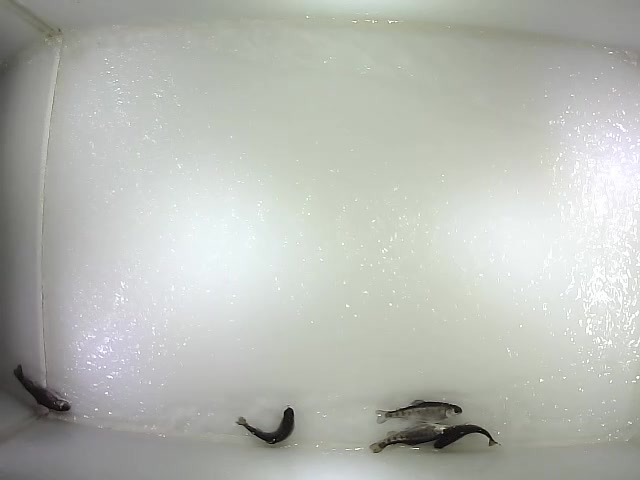fish: (12, 362, 73, 414), (368, 421, 448, 454), (375, 397, 463, 426), (234, 405, 296, 446), (433, 422, 497, 451)
